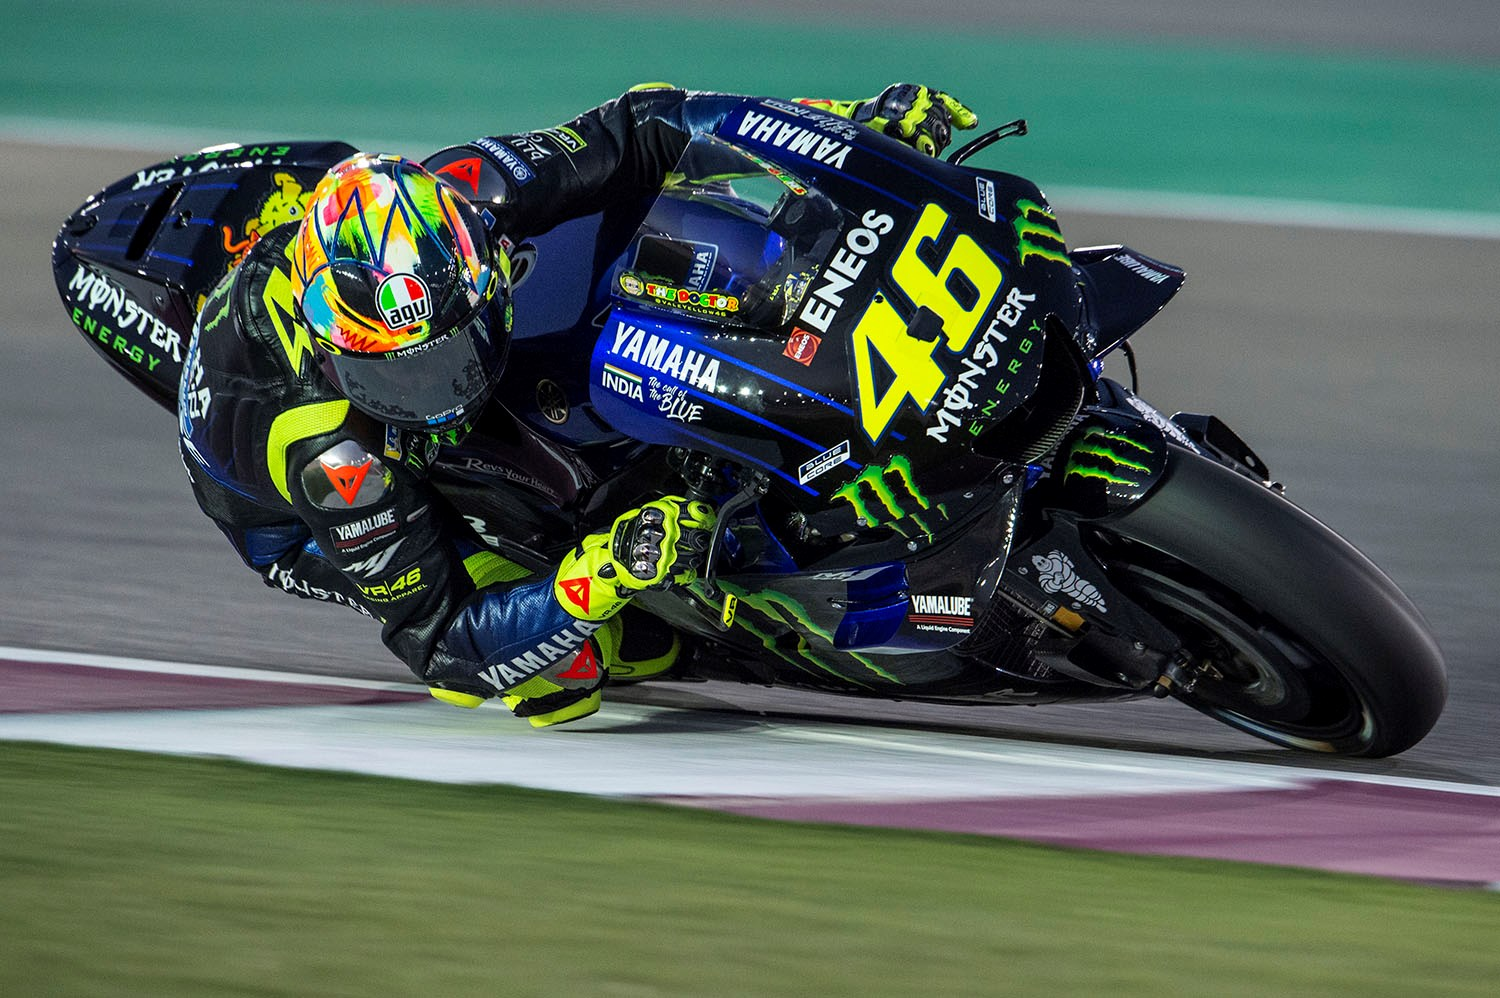helmet: (280, 155, 551, 462)
